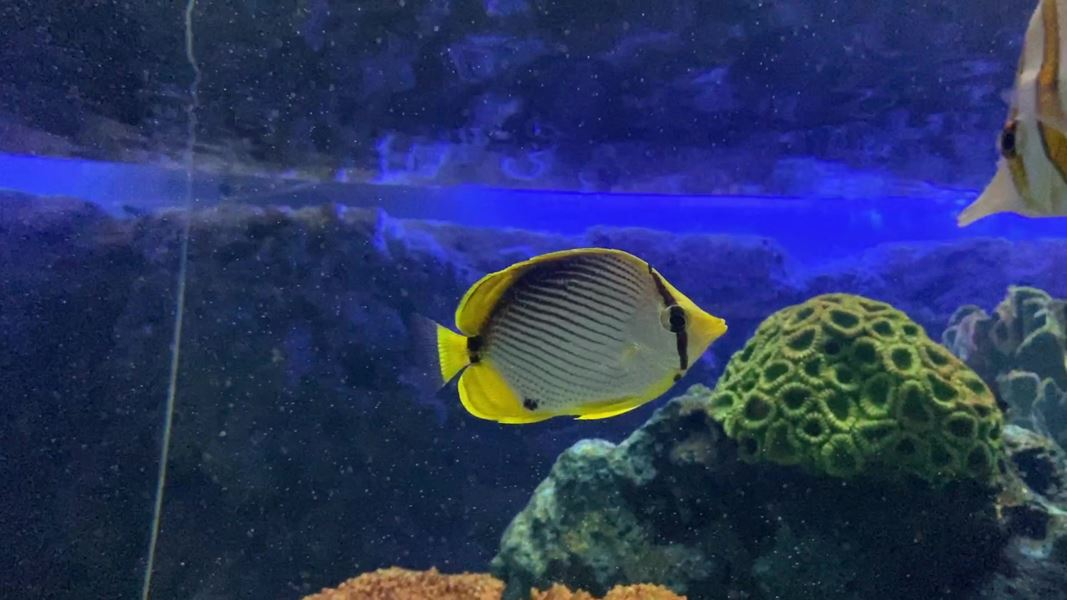Black-backed butterflyfish: (396, 235, 744, 437)
